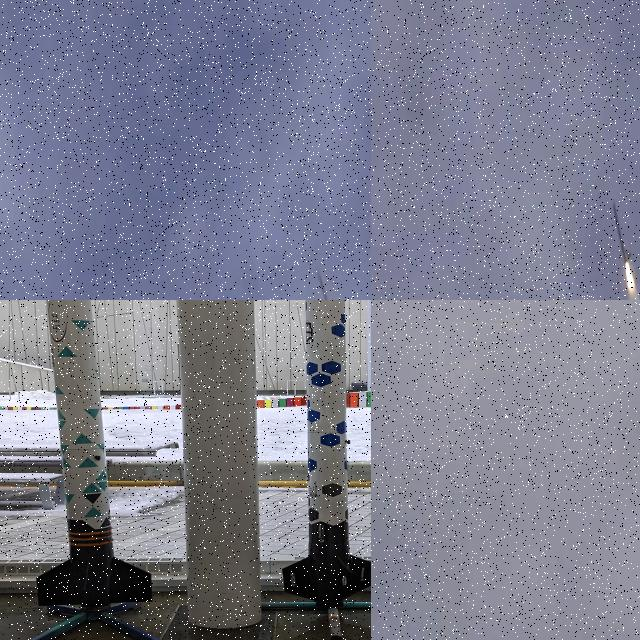Rocket: (36, 300, 153, 618), (282, 300, 371, 609), (612, 202, 632, 262), (316, 269, 335, 300)
